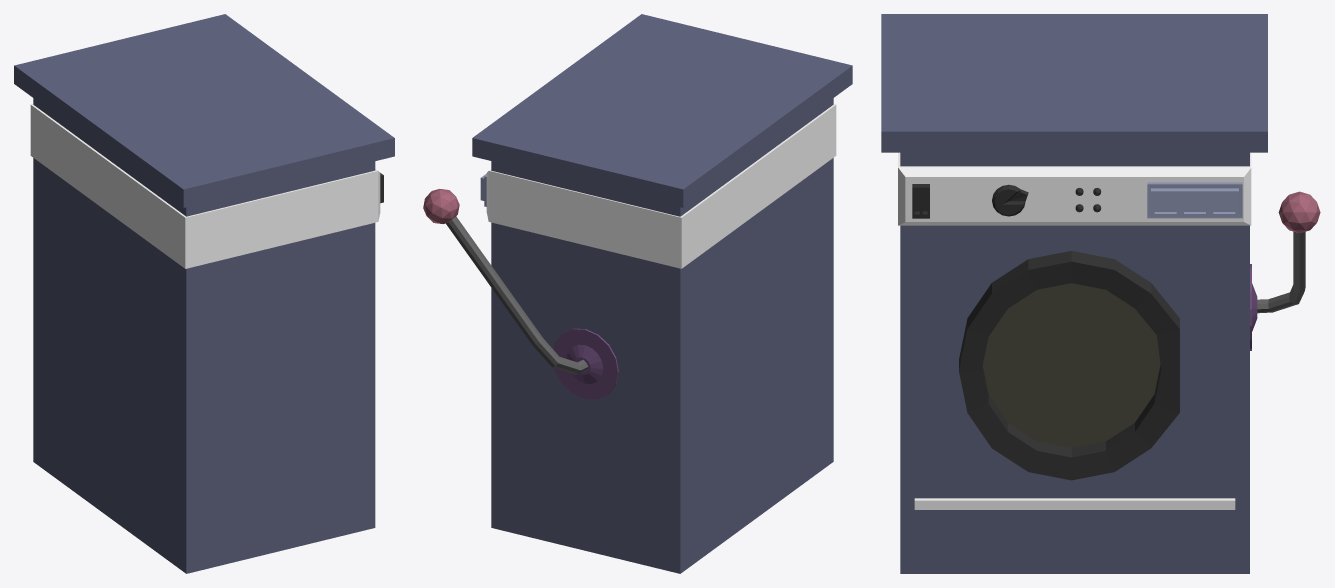
Rendered from Washing Machine.fbx.
3 views of the same model, side by side, from view 1: azimuth 30°, elevation 25°; view 2: azimuth 150°, elevation 25°; view 3: azimuth 270°, elevation 25° (orthographic). The views are drawn at different scales.
Visible parts, largest first — view 1: Low_Poly_WM.002; view 2: Low_Poly_WM.002, Crank_Base.002, WM_Pole.001, Crank_Handle.002; view 3: Low_Poly_WM.002, Low_Poly_Door.003, WM_Slots.001, WM_Pole.001, Crank_Handle.002, WM_Dial.002, WM_Coinslots.002.
Boxes of the visible parts, x1,y1,x2,y2 form: Low_Poly_WM.002: (14,14,394,573); Low_Poly_WM.002: (472,14,852,573); Crank_Base.002: (553,328,618,399); WM_Pole.001: (446,216,588,374); Crank_Handle.002: (423,189,459,223); Low_Poly_WM.002: (881,14,1267,573); Low_Poly_Door.003: (959,251,1179,480); WM_Slots.001: (1147,182,1242,218); WM_Pole.001: (1257,231,1305,313); Crank_Handle.002: (1278,191,1320,233); WM_Dial.002: (992,184,1028,216); WM_Coinslots.002: (912,184,929,218).
Size of the model in its own units: 97.69 by 150 by 133.
